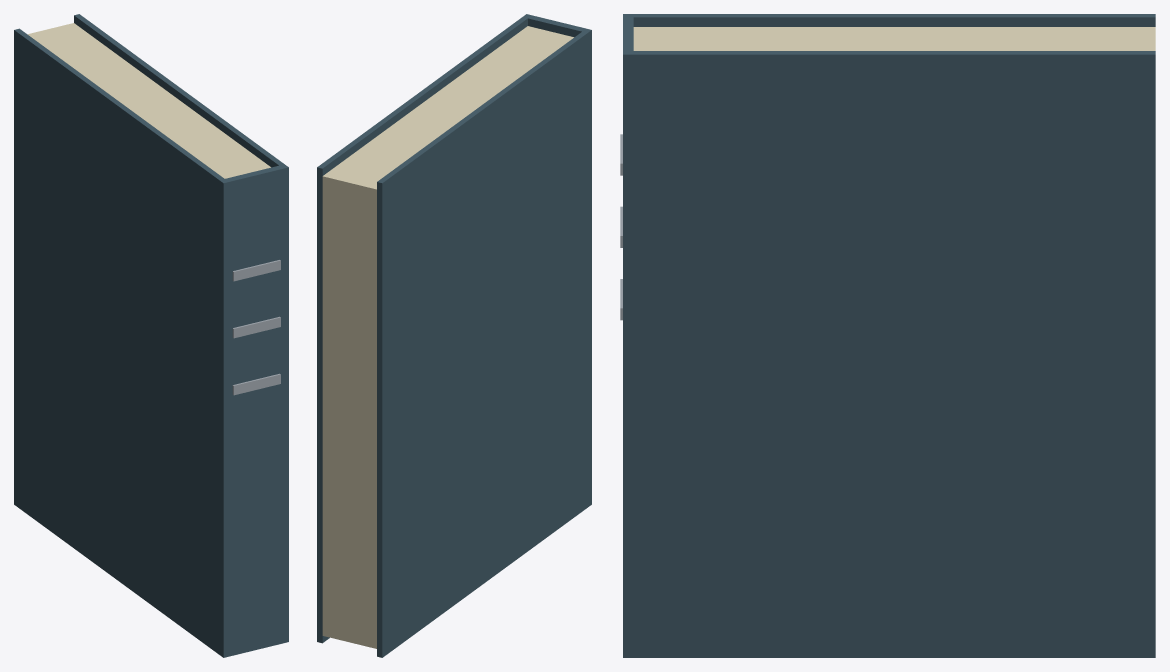
The model's file is Konyv_allo.obj.
The picture shows the model from 3 angles, left to right: view 1: azimuth 30°, elevation 25°; view 2: azimuth 150°, elevation 25°; view 3: azimuth 270°, elevation 25°; orthographic projection. The views are drawn at different scales.
Size of the model in its own units: 0.036 by 0.25 by 0.201.
